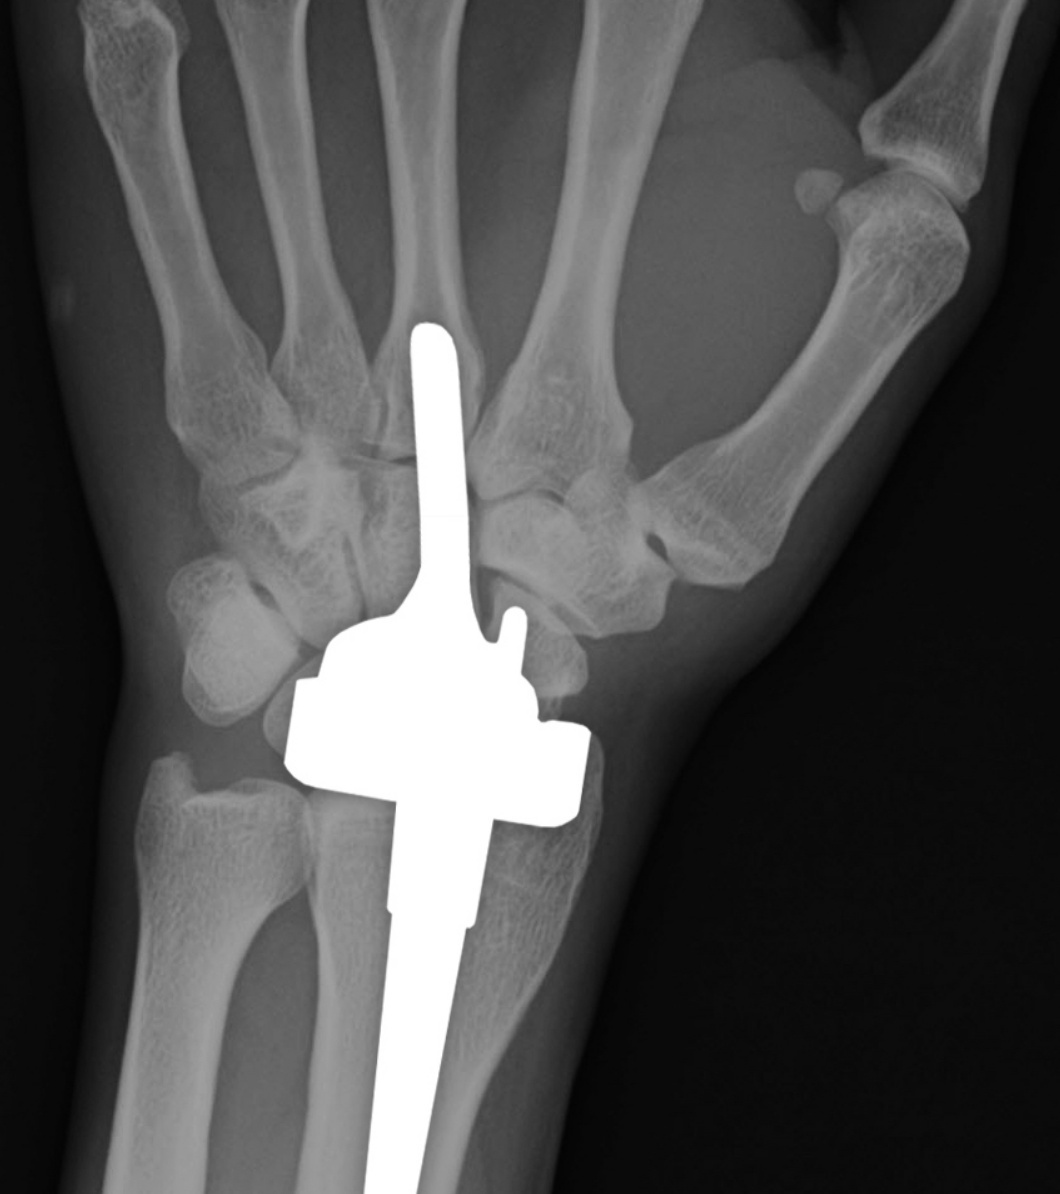Wrist-Biax-DePuuy: (258, 315, 600, 1194)
